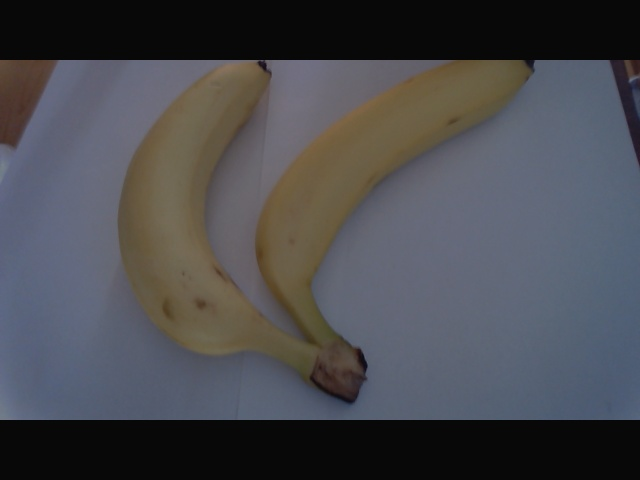banana: (264, 56, 533, 376), (92, 64, 260, 378)
